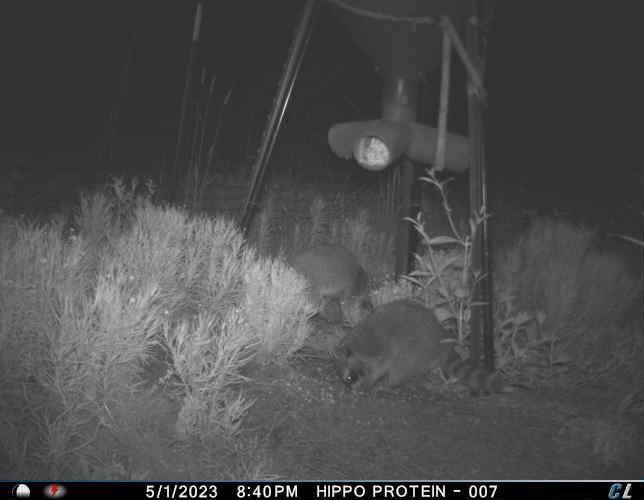Raccoon: (329, 297, 495, 402), (288, 240, 376, 320)
